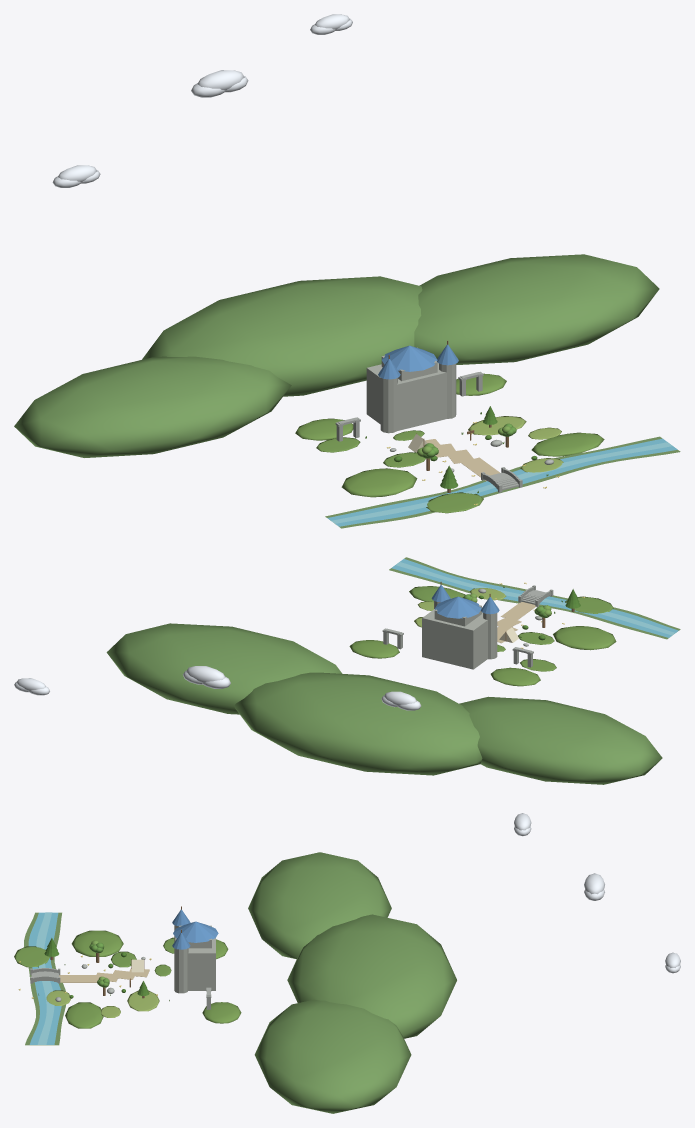
Rendered from environment-kit.glb.
3 views of the same model, one above another, from view 1: azimuth 30°, elevation 25°; view 2: azimuth 150°, elevation 25°; view 3: azimuth 270°, elevation 25° (orthographic). The views are drawn at different scales.
Parts seen in each view (by area): view 1: environment_distant_hills, environment_meadow_shadow, environment_keep_stone, environment_stream, environment_clouds, environment_river_banks, environment_castle_blue_roof, environment_stone, environment_meadow_light, environment_stream_light, environment_sand_path; view 2: environment_distant_hills, environment_meadow_shadow, environment_keep_stone, environment_stream, environment_clouds, environment_river_banks, environment_castle_blue_roof, environment_stone, environment_stream_light, environment_sand_path, environment_meadow_light; view 3: environment_distant_hills, environment_meadow_shadow, environment_keep_stone, environment_stream, environment_clouds, environment_castle_blue_roof, environment_meadow_light, environment_river_banks, environment_stream_light, environment_sand_path, environment_stone.
Boxes of the visible parts, box(x1,y1,x2,y2) form: environment_distant_hills: box(14, 254, 659, 457); environment_meadow_shadow: box(295, 373, 604, 513); environment_keep_stone: box(366, 347, 456, 433); environment_stream: box(327, 438, 677, 526); environment_clouds: box(52, 14, 352, 187); environment_river_banks: box(325, 436, 680, 528); environment_castle_blue_roof: box(378, 344, 458, 379); environment_stone: box(335, 371, 553, 492); environment_meadow_light: box(468, 416, 563, 472); environment_stream_light: box(331, 442, 672, 523); environment_sand_path: box(425, 439, 499, 481); environment_distant_hills: box(106, 623, 662, 784); environment_meadow_shadow: box(349, 586, 616, 686); environment_keep_stone: box(422, 598, 497, 669); environment_stream: box(391, 559, 678, 637); environment_clouds: box(14, 666, 421, 710); environment_river_banks: box(389, 557, 680, 639); environment_castle_blue_roof: box(431, 585, 499, 618); environment_stone: box(382, 585, 553, 667); environment_stream_light: box(396, 562, 675, 635); environment_sand_path: box(497, 602, 535, 643); environment_meadow_light: box(414, 588, 506, 627); environment_distant_hills: box(248, 852, 456, 1113); environment_meadow_shadow: box(14, 930, 241, 1028); environment_keep_stone: box(174, 925, 215, 993); environment_stream: box(28, 912, 61, 1044); environment_clouds: box(514, 813, 680, 973); environment_castle_blue_roof: box(172, 909, 218, 949); environment_meadow_light: box(46, 990, 159, 1017); environment_river_banks: box(24, 912, 65, 1045); environment_stream_light: box(36, 912, 54, 1044); environment_sand_path: box(59, 968, 149, 982); environment_stone: box(30, 957, 211, 1009).
Bounding box in the file's own units: 90.09 × 25.56 × 102.
